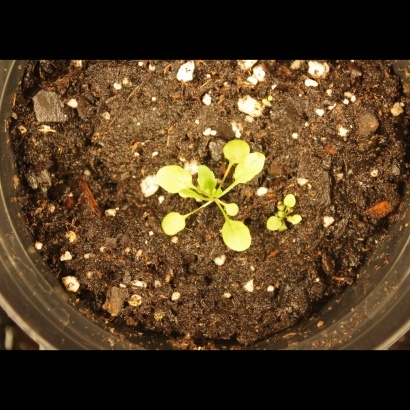leaf: (218, 219, 257, 260), (232, 149, 272, 184), (153, 161, 195, 194), (157, 208, 194, 243), (218, 136, 255, 169), (195, 160, 218, 202), (261, 215, 284, 238), (278, 188, 301, 211), (286, 211, 309, 234)
